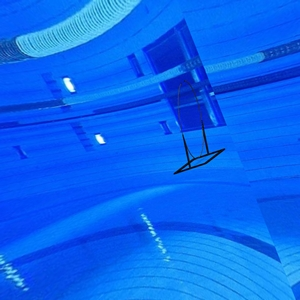circle: (169, 80, 227, 176)
